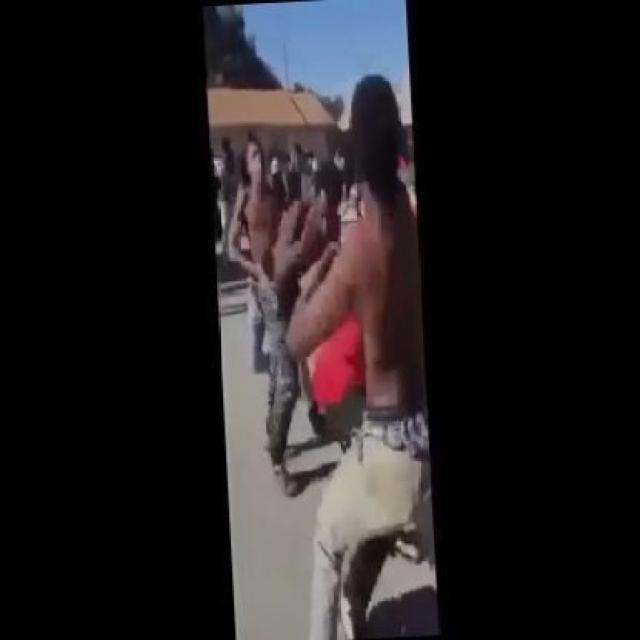fight: (279, 64, 469, 638)
